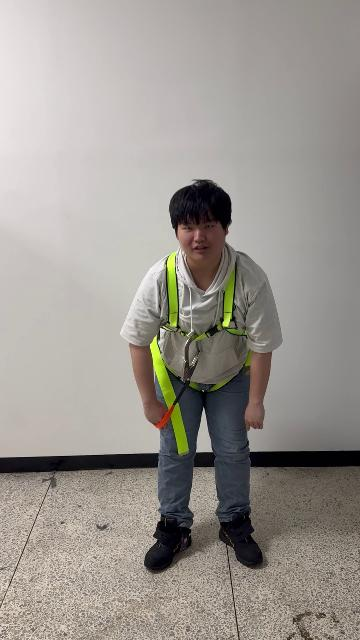helmet_not_worn: (169, 180, 233, 246)
shoe_worn: (143, 517, 192, 570), (219, 514, 263, 567)
vest_worn: (151, 254, 249, 423)
